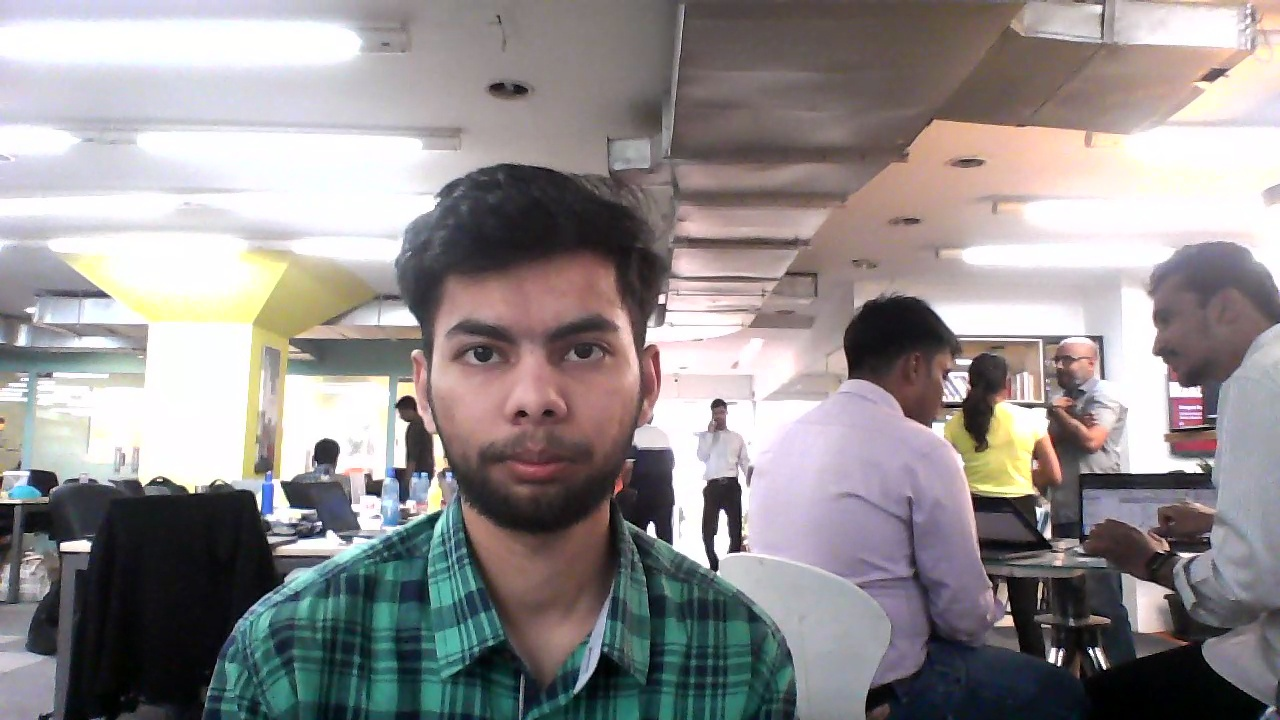open: (393, 161, 676, 532)
